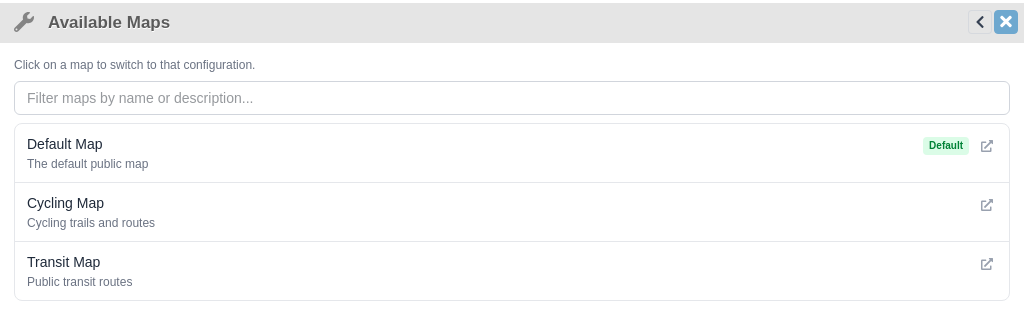
Scenario: AvailableMapsTool › filters maps by name
Expected: the text "Default Map" is shown, [27,134,102,154]
Type "Cycling" into the field with placeholder "Filter maps by name or description..." at (512, 98), box [14,81,1010,115]
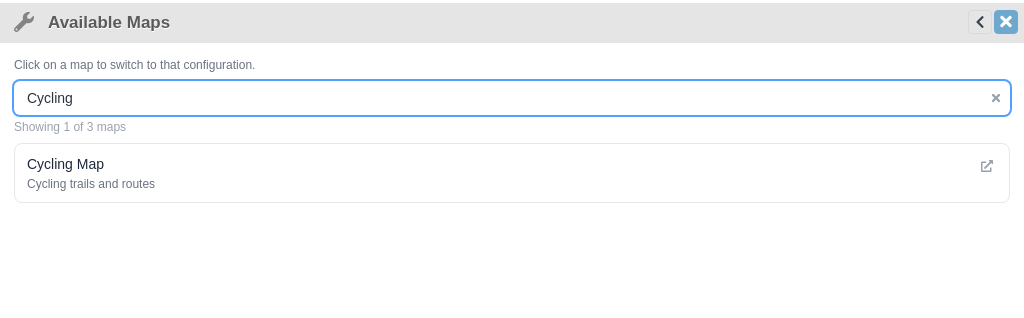
Expected: the text "Cycling Map" is shown, [27,154,104,174]
Expected: the button "Default Map" is gone
Expected: the button "Transit Map" is gone
